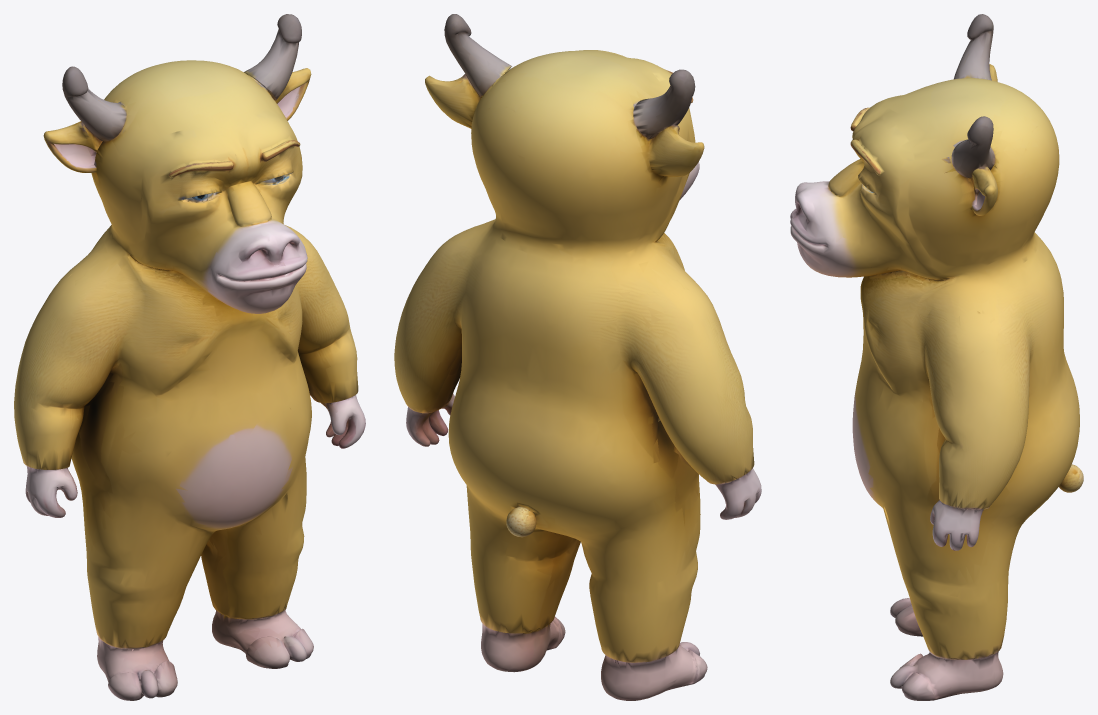
Rendered from niu_lai.glb.
The picture shows the model from 3 angles, left to right: view 1: azimuth 30°, elevation 25°; view 2: azimuth 150°, elevation 25°; view 3: azimuth 270°, elevation 25°; orthographic projection. The views are drawn at different scales.
Parts seen in each view (by area): view 1: NiuLai; view 2: NiuLai; view 3: NiuLai.
Boxes of the visible parts, <box> form: NiuLai: <box>14,14,365,700</box>; NiuLai: <box>394,14,761,700</box>; NiuLai: <box>790,14,1083,700</box>.
Size of the model in its own units: 0.6283 by 1.11 by 0.5004.
Materials: 1 (1 with a texture image).
